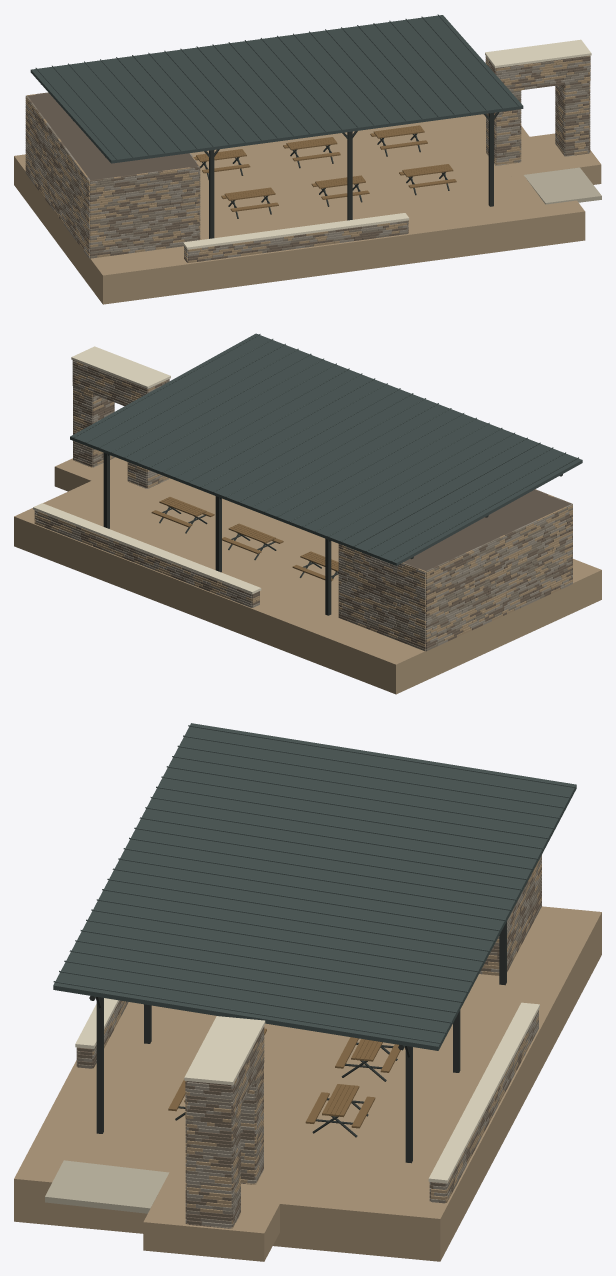
File: lamar-shelter.glb
3 renders of one model, top to bottom at view 1: azimuth 30°, elevation 25°; view 2: azimuth 150°, elevation 25°; view 3: azimuth 270°, elevation 25°, orthographic. The views are drawn at different scales.
Visible parts, largest first — view 1: Lamar pavilion — warm pavers and stacked stone, Lamar pavilion — steel columns and mono-pitch canopy, Distinctive dry-stack stone portal, Portal threshold and entry walkway, Pavilion picnic furniture; view 2: Lamar pavilion — warm pavers and stacked stone, Lamar pavilion — steel columns and mono-pitch canopy, Distinctive dry-stack stone portal, Pavilion picnic furniture, Portal threshold and entry walkway; view 3: Lamar pavilion — steel columns and mono-pitch canopy, Lamar pavilion — warm pavers and stacked stone, Distinctive dry-stack stone portal, Portal threshold and entry walkway, Pavilion picnic furniture.
Part boxes in pixels (x1,y1,x2,y2): Lamar pavilion — warm pavers and stacked stone: [14, 92, 585, 304]; Lamar pavilion — steel columns and mono-pitch canopy: [30, 14, 523, 238]; Distinctive dry-stack stone portal: [485, 39, 591, 165]; Portal threshold and entry walkway: [477, 133, 601, 204]; Pavilion picnic furniture: [193, 125, 456, 218]; Lamar pavilion — warm pavers and stacked stone: [14, 464, 601, 694]; Lamar pavilion — steel columns and mono-pitch canopy: [70, 333, 582, 615]; Distinctive dry-stack stone portal: [71, 346, 170, 488]; Pavilion picnic furniture: [151, 497, 338, 581]; Portal threshold and entry walkway: [54, 457, 127, 491]; Lamar pavilion — steel columns and mono-pitch canopy: [53, 723, 576, 1163]; Lamar pavilion — warm pavers and stacked stone: [14, 855, 601, 1261]; Distinctive dry-stack stone portal: [184, 1016, 265, 1228]; Portal threshold and entry walkway: [45, 1159, 297, 1261]; Pavilion picnic furniture: [168, 1028, 400, 1137].
Size of the model in its own units: 24.48 by 6.4 by 16.83.
